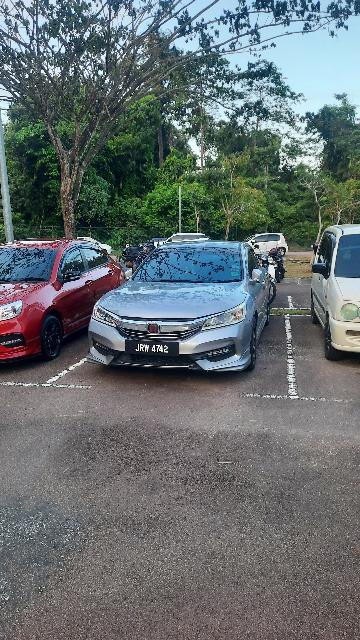License_Plate: (124, 338, 182, 358)
car: (86, 243, 269, 376)
